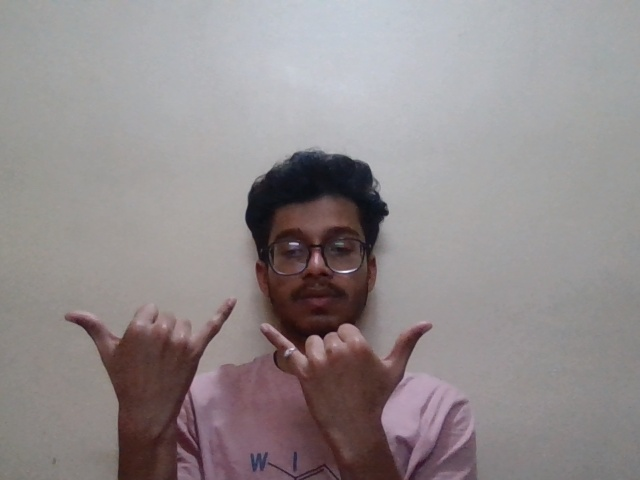today: (62, 300, 440, 436)
